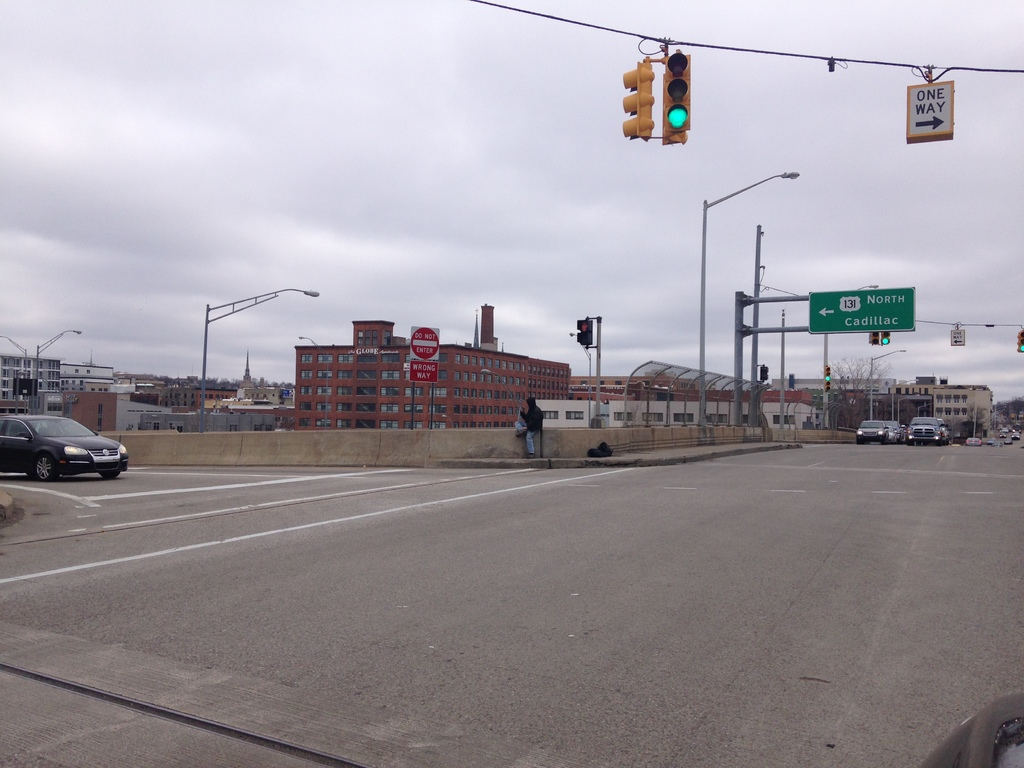green_light: (664, 54, 692, 135)
